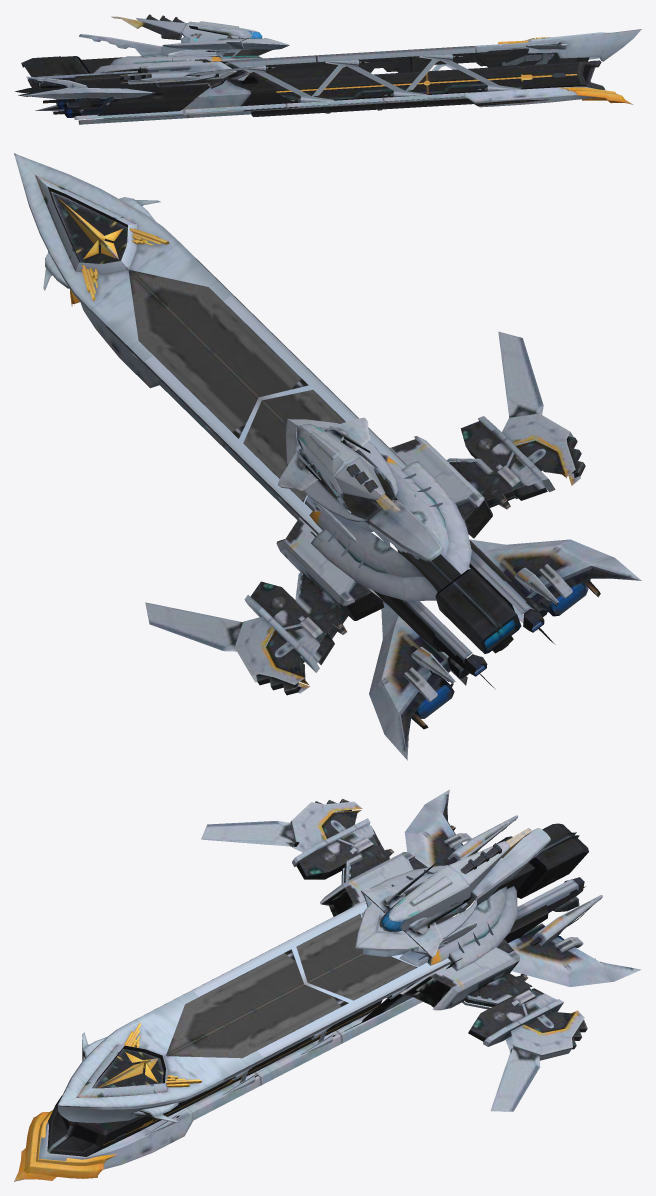
The model's file is Scece_feichuan.FBX.
3 renders of one model, top to bottom at view 1: azimuth 30°, elevation 25°; view 2: azimuth 150°, elevation 25°; view 3: azimuth 270°, elevation 25°, orthographic. The views are drawn at different scales.
Parts seen in each view (by area): view 1: Mesh_0050; view 2: Mesh_0050; view 3: Mesh_0050.
Part boxes in pixels (x1=…): Mesh_0050: x1=15, y1=14, x2=641, y2=124; Mesh_0050: x1=14, y1=153, x2=641, y2=760; Mesh_0050: x1=14, y1=789, x2=641, y2=1181.
Size of the model in its own units: 253 by 62.73 by 179.
Materials: 1 (1 with a texture image).
